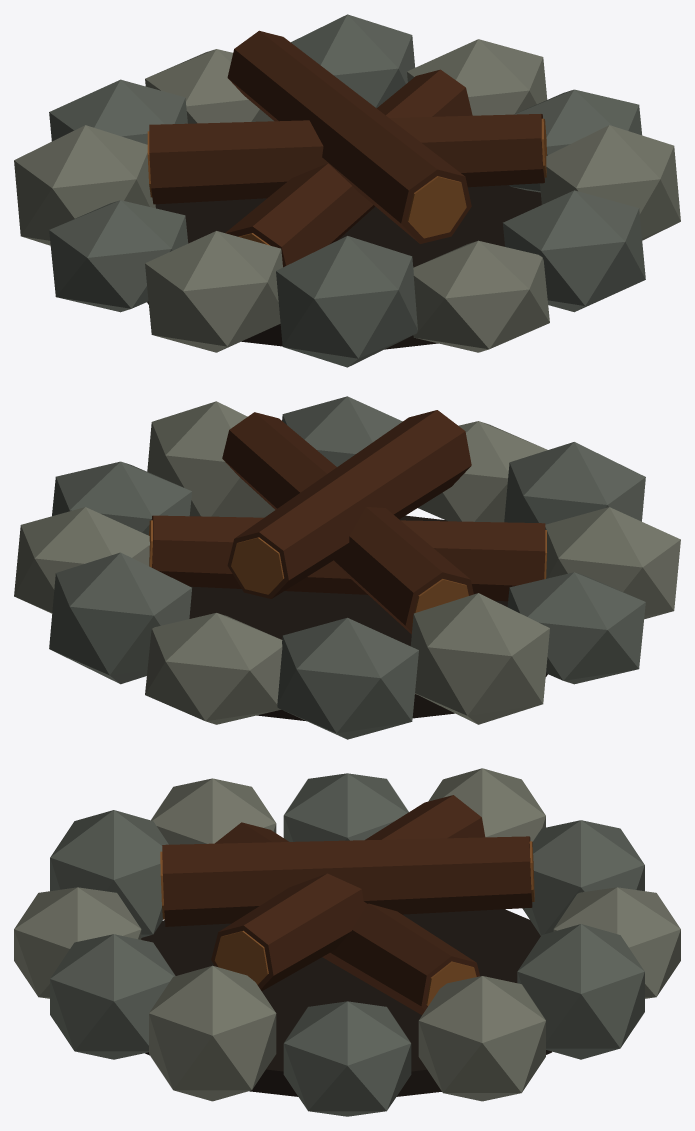
Rendered from campfire.glb.
3 renders of one model, top to bottom at view 1: azimuth 30°, elevation 25°; view 2: azimuth 150°, elevation 25°; view 3: azimuth 270°, elevation 25°, orthographic. The views are drawn at different scales.
Visible parts, largest first — view 1: campfire; view 2: campfire; view 3: campfire.
Part boxes in pixels (bbox=[...]): campfire: bbox=[14, 14, 680, 367]; campfire: bbox=[14, 396, 680, 739]; campfire: bbox=[14, 768, 680, 1116].
Size of the model in its own units: 1.85 by 0.4899 by 1.78.
Materials: 1 (1 with a texture image).
